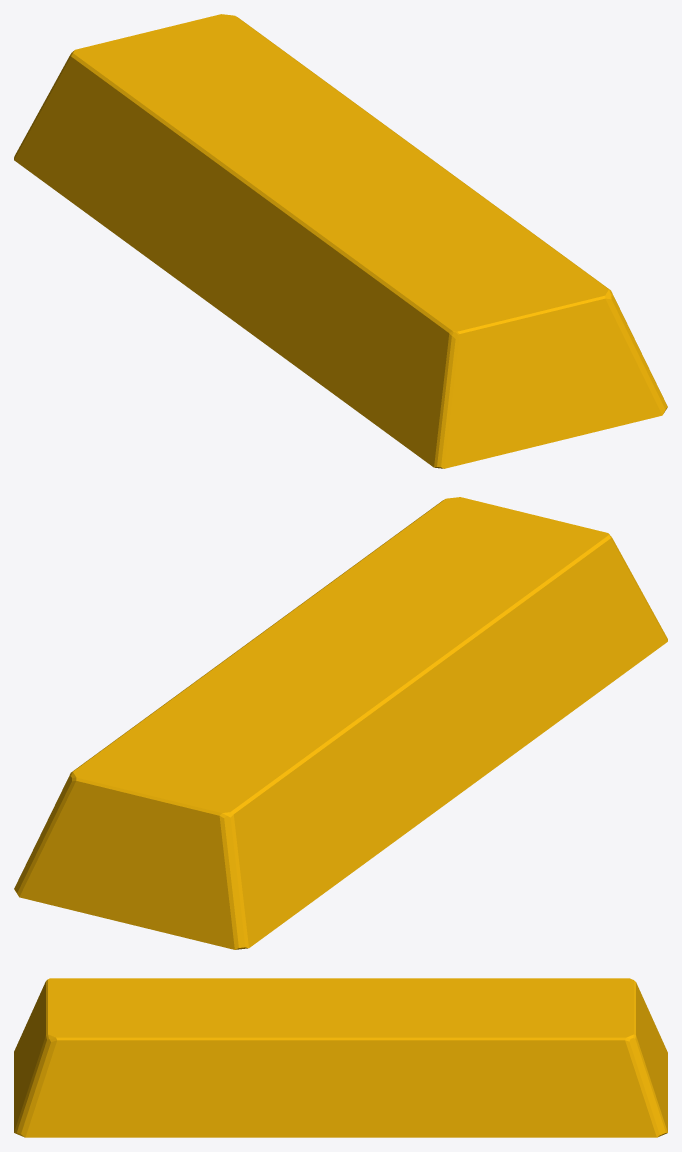
Rendered from gold.fbx.
The picture shows the model from 3 angles, top to bottom: view 1: azimuth 30°, elevation 25°; view 2: azimuth 150°, elevation 25°; view 3: azimuth 270°, elevation 25°; orthographic projection. The views are drawn at different scales.
Visible parts, largest first — view 1: Cube; view 2: Cube; view 3: Cube.
Boxes of the visible parts, left/top/right/bottom form: Cube: left=14, top=14, right=667, bottom=468; Cube: left=14, top=497, right=667, bottom=949; Cube: left=14, top=978, right=667, bottom=1137.
Size of the model in its own units: 46.39 by 20.95 by 145.
